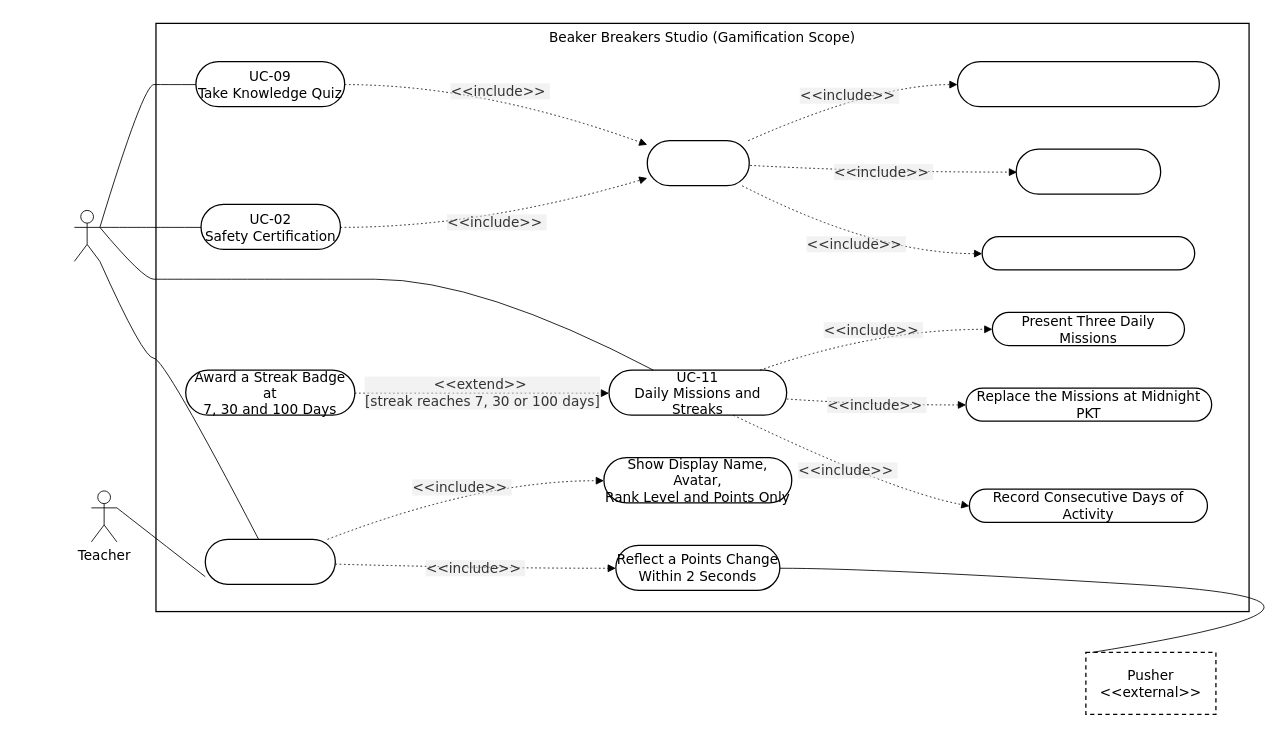
Image size: 1279x729. Some labels were removed from this diagram. The box of each missing label's shape, as (x1, y1, x2, y2) in pixels:
Assign One of Eight Rank Levels: (981, 236, 1195, 270)
Award a Badge Once from the Badge Set: (1015, 148, 1161, 194)
Award Experience Points by Experiment Difficulty or Safety Tier Passed: (957, 61, 1220, 107)
Student: (74, 210, 100, 261)
UC-10 Earn Rewards: (646, 140, 750, 186)
UC-12 View Leaderboard: (204, 538, 336, 585)
